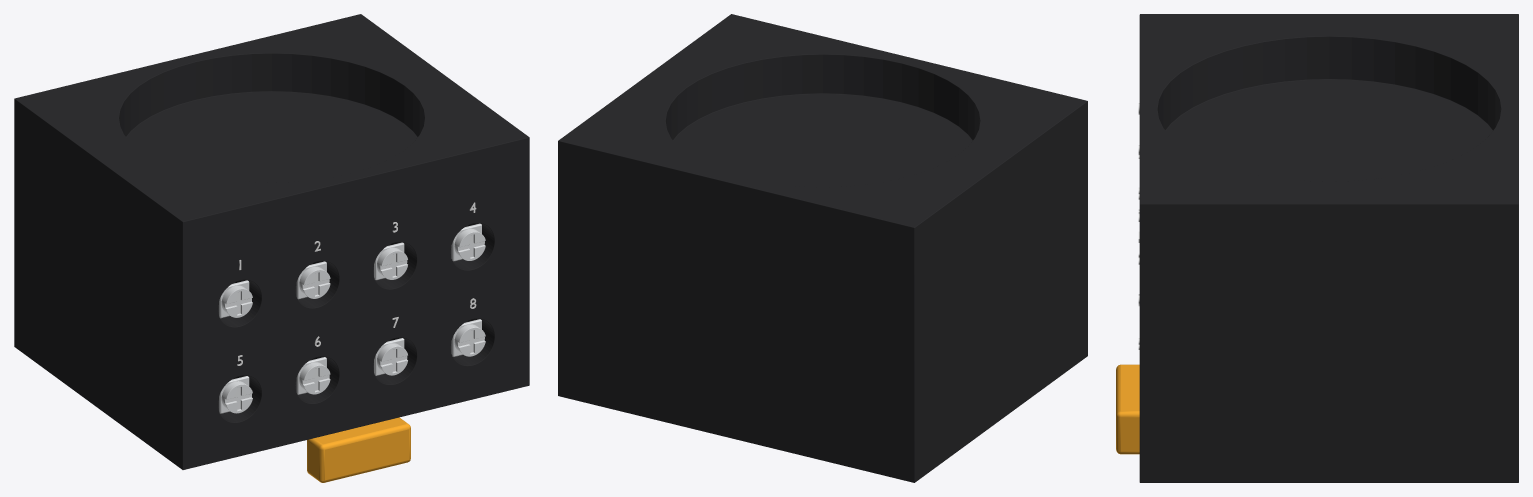
File: socket_8pin.glb
The picture shows the model from 3 angles, left to right: view 1: azimuth 30°, elevation 25°; view 2: azimuth 150°, elevation 25°; view 3: azimuth 270°, elevation 25°; orthographic projection. The views are drawn at different scales.
Parts seen in each view (by area): view 1: socket; view 2: socket; view 3: socket.
Boxes of the visible parts, x1,y1,x2,y2 form: socket: [14, 14, 529, 482]; socket: [558, 14, 1087, 482]; socket: [1116, 14, 1518, 482].
Size of the model in its own units: 0.038 by 0.03 by 0.034.
